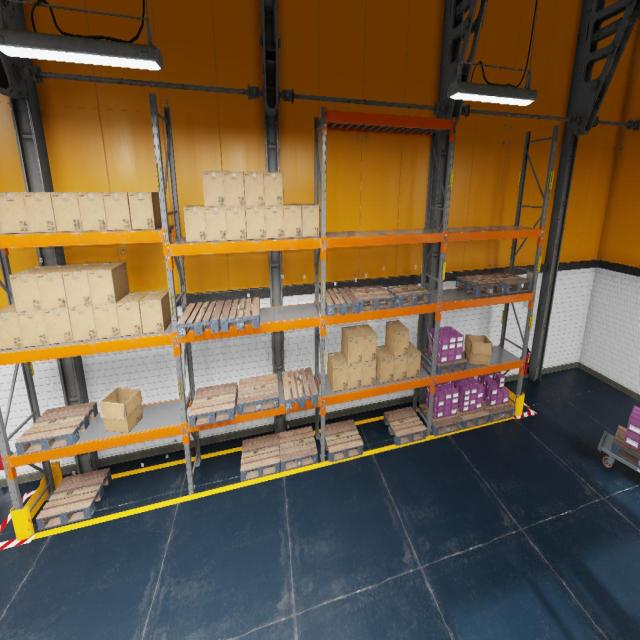box: (9, 265, 58, 312), (36, 264, 81, 309), (100, 387, 143, 433), (62, 262, 104, 307), (88, 262, 130, 306), (116, 291, 150, 336), (139, 290, 171, 334), (23, 192, 57, 233), (51, 192, 83, 232), (128, 192, 162, 229), (0, 192, 30, 233), (17, 310, 49, 347), (77, 192, 107, 231), (42, 308, 74, 344), (103, 192, 132, 231), (0, 302, 23, 349), (68, 306, 97, 341), (93, 303, 120, 339), (183, 205, 207, 242), (464, 334, 492, 365), (386, 320, 410, 356), (327, 351, 348, 392), (341, 326, 363, 364), (385, 345, 408, 380), (202, 171, 225, 206), (204, 207, 227, 241), (223, 171, 245, 206), (356, 324, 376, 362), (225, 206, 246, 240), (244, 171, 264, 206), (376, 345, 394, 383), (299, 204, 319, 237), (246, 207, 266, 240), (343, 355, 362, 389), (283, 204, 302, 238), (264, 172, 283, 206), (264, 206, 284, 238), (407, 341, 421, 378), (362, 360, 376, 386), (0, 221, 2, 233)
pallets: (36, 468, 111, 530), (14, 402, 98, 455), (188, 382, 238, 427), (240, 433, 280, 481), (278, 426, 318, 471), (237, 373, 279, 415), (177, 300, 224, 336), (325, 419, 363, 462), (384, 407, 426, 445), (282, 367, 318, 411), (418, 404, 462, 436), (220, 297, 260, 332), (611, 426, 640, 468), (421, 348, 467, 374), (320, 287, 360, 316), (349, 286, 395, 310), (456, 274, 505, 296), (387, 284, 431, 307), (483, 273, 533, 293), (457, 406, 490, 428), (482, 400, 515, 422)
